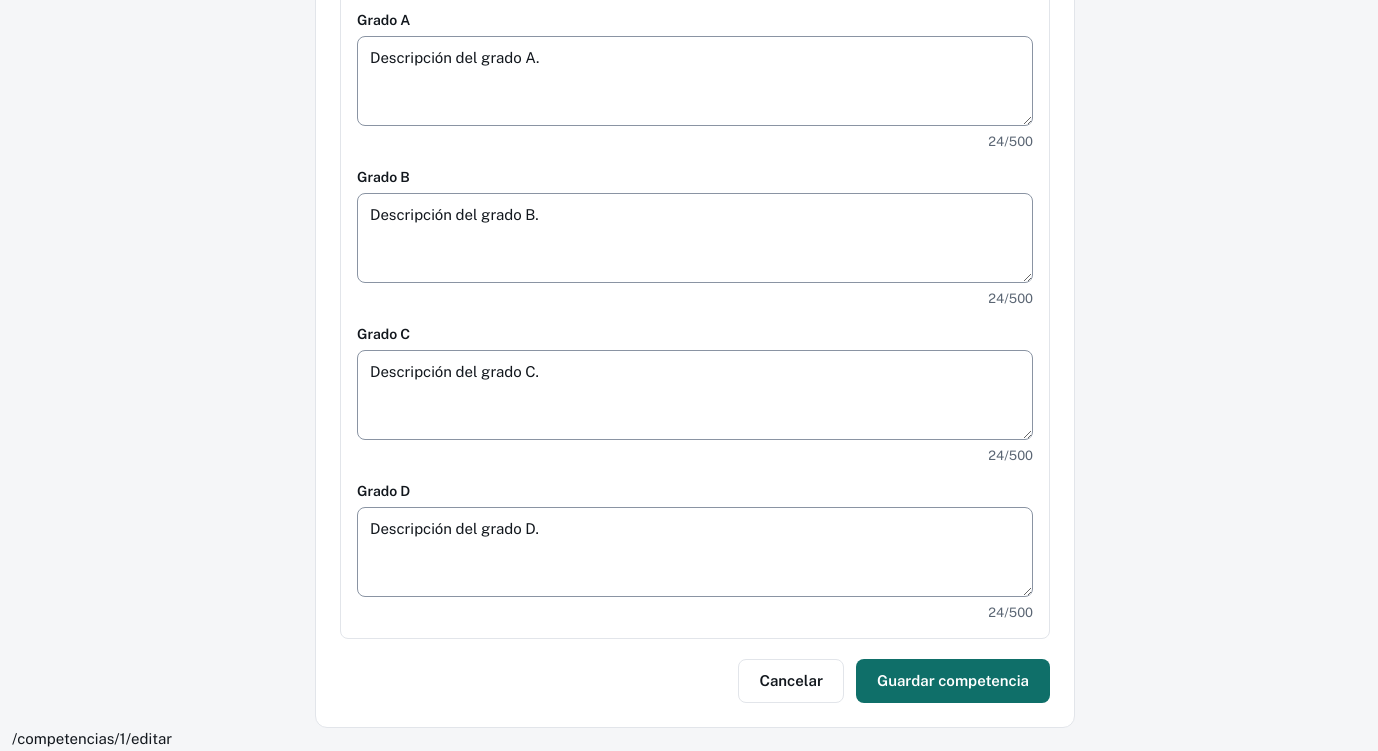
CompetenciaFormPage (editar) › ante un conflicto (409) avisa y "Recargar" trae la versión actual
(page scrolled)
Click the button "Guardar competencia": point(953, 681) x1=856 y1=659 x2=1050 y2=703
(page scrolled)
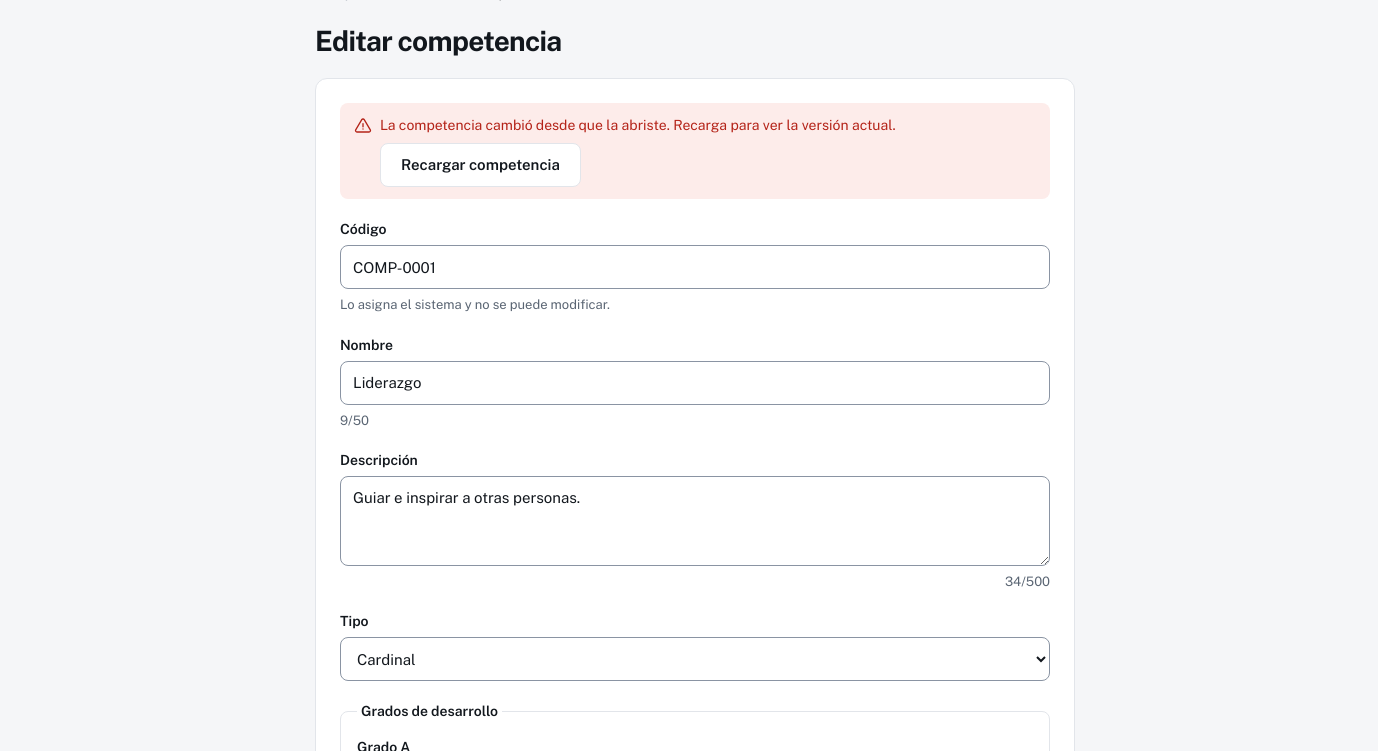
Expected: the text "La competencia cambió desde que la abriste. Recarga para ver la versión actual." is shown, x1=380 y1=115 x2=896 y2=135
Click the button "Recargar competencia": point(480, 165) x1=380 y1=143 x2=581 y2=187
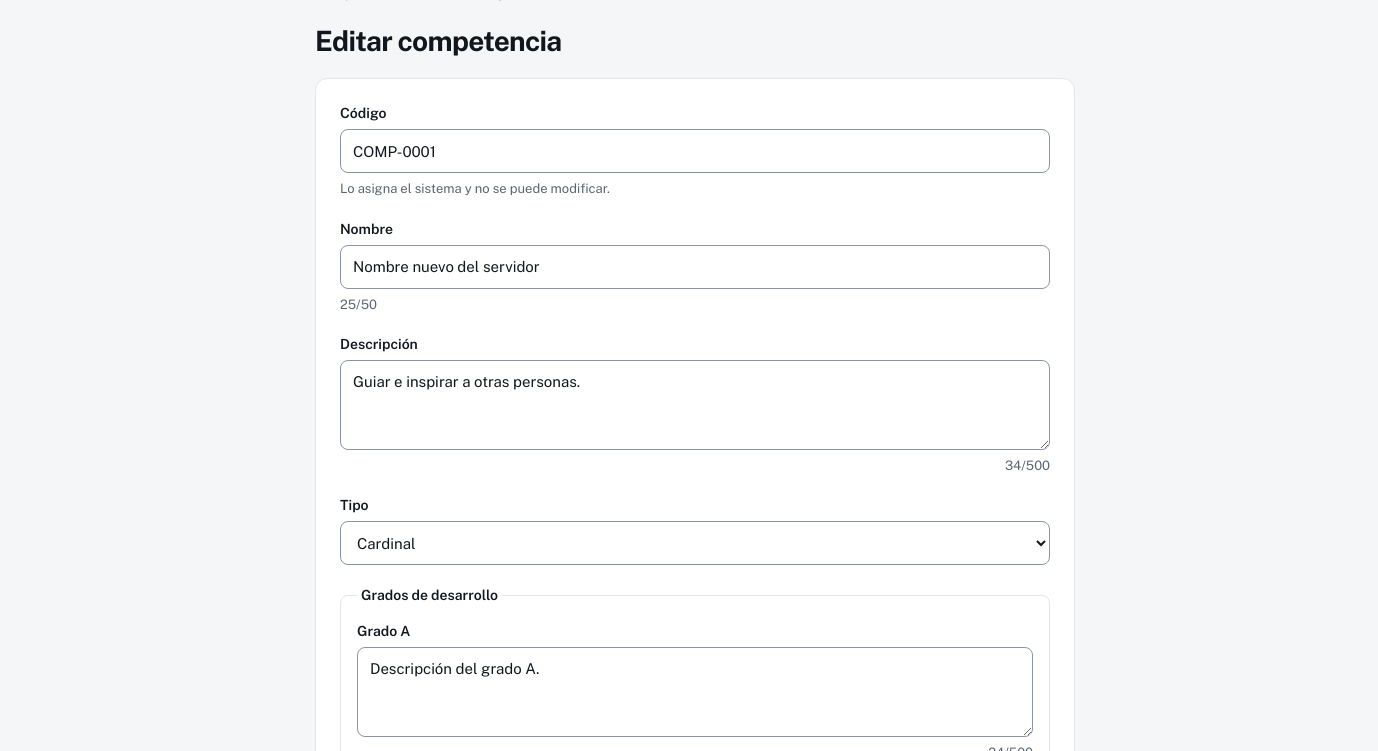
Expected: the field labelled "Nombre" holds "Nombre nuevo del servidor", x1=340 y1=244 x2=1050 y2=288
Expected: the text "La competencia cambió" is gone
